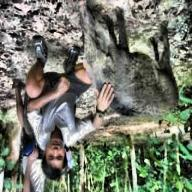boar: (72, 16, 191, 132)
